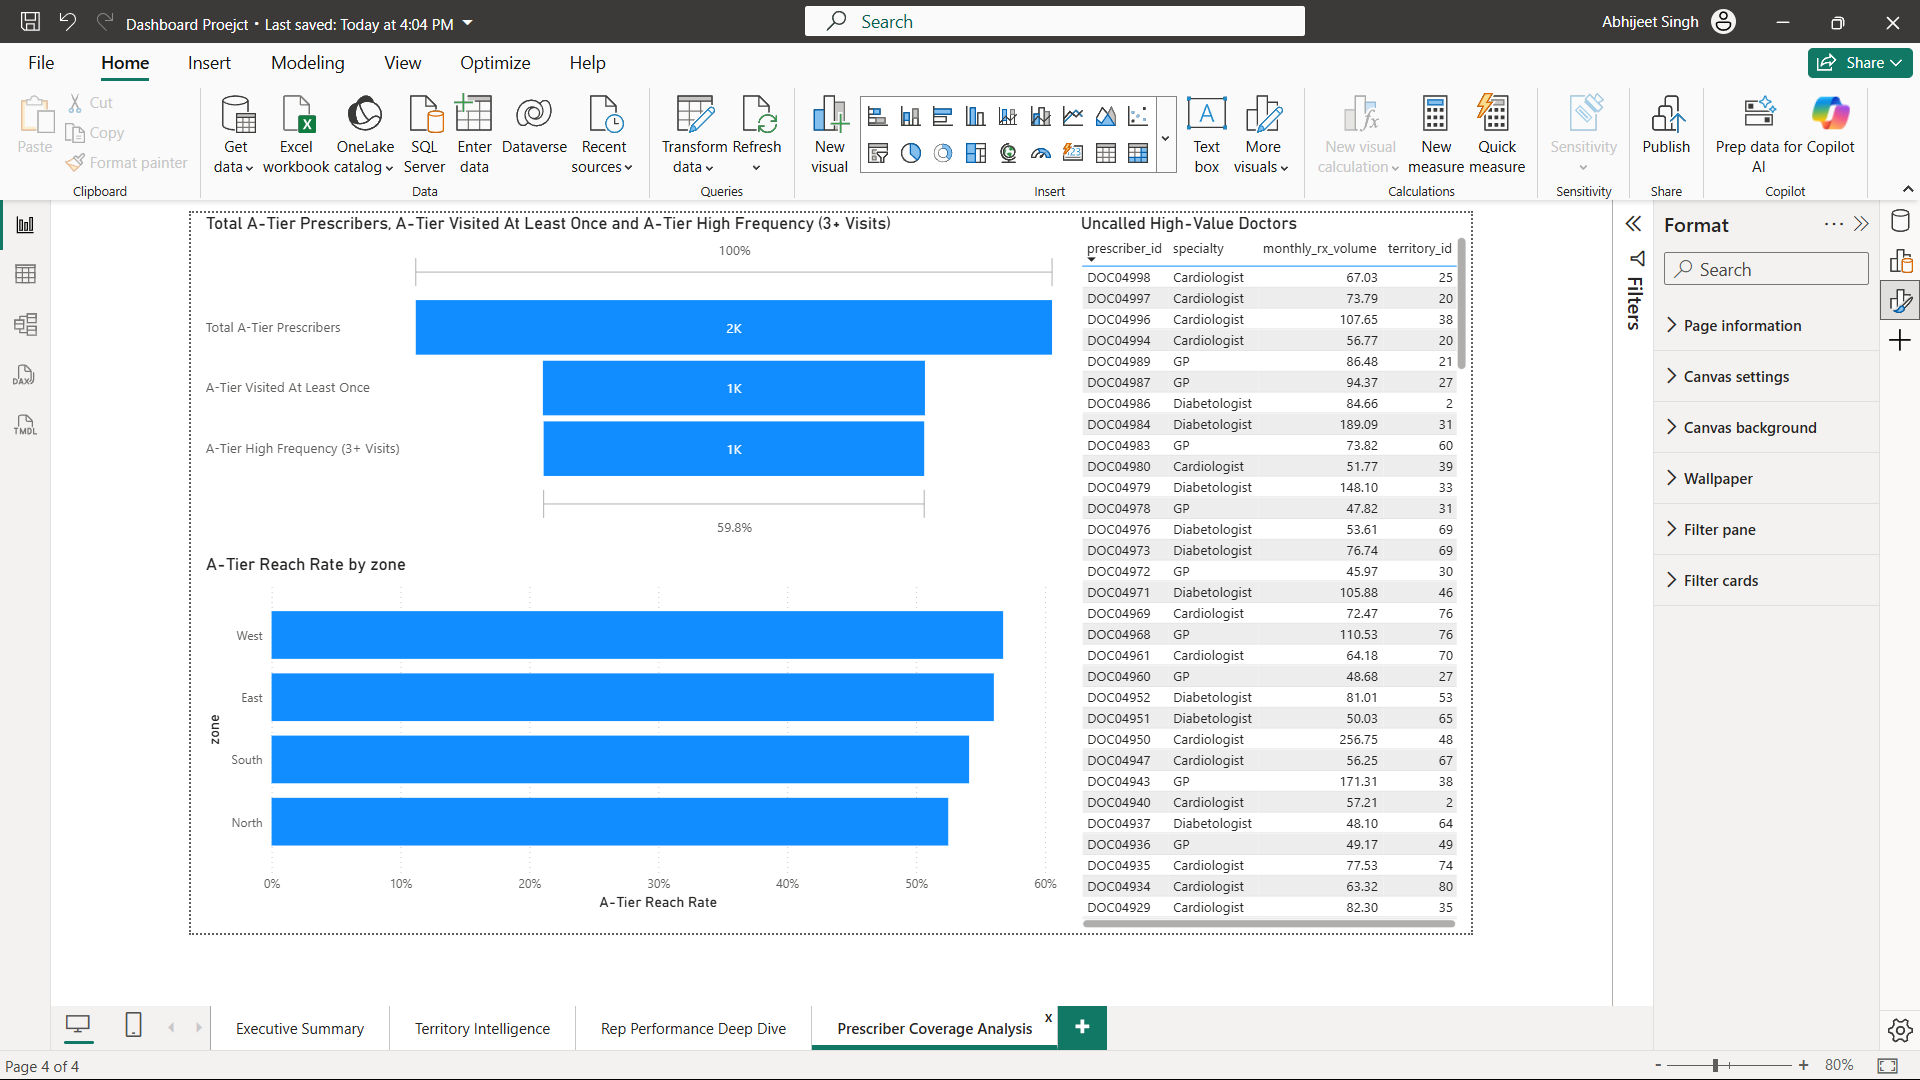

Layout of this report page (visuals, bound fields, positions):
{"tool":"powerbi","page":{"name":"Prescriber Coverage Analysis","canvas":[1280,720],"ordinal":3},"visuals":[{"type":"funnel","fields":{"Y":["_Measure.Total A-Tier Prescribers","_Measure.A-Tier Visited At Least Once","_Measure.A-Tier High Frequency (3+ Visits)"]},"box":[10,0,861.2,331.2],"z":0},{"type":"clusteredBarChart","fields":{"Y":["_Measure.A-Tier Reach Rate"],"Category":["territories_dim.zone"]},"box":[10,341.2,861.2,361.2],"z":1000},{"type":"tableEx","title":"Uncalled High-Value Doctors","fields":{"Values":["prescribers_dim.prescriber_id","prescribers_dim.specialty","prescribers_dim.monthly_rx_volume","prescribers_dim.territory_id"]},"box":[885,0,395,720],"z":2000}]}

Visuals, with their boxes on the page's 1280x720 design canvas (x1, y1, x2, y2). These are canvas units, not pixel positions in the 1920x1080 screenshot, which may show the page scaled, cropped or inside an application window:
funnel - _Measure.Total A-Tier Prescribers x _Measure.A-Tier Visited At Least Once: 10,0,871,331
clusteredBarChart - _Measure.A-Tier Reach Rate x territories_dim.zone: 10,341,871,702
"Uncalled High-Value Doctors" tableEx: 885,0,1280,720
